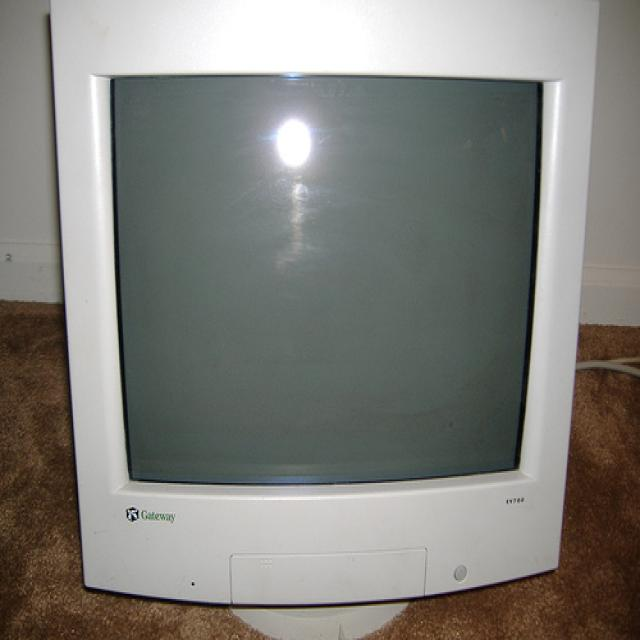tvmonitor: (50, 1, 592, 607)
